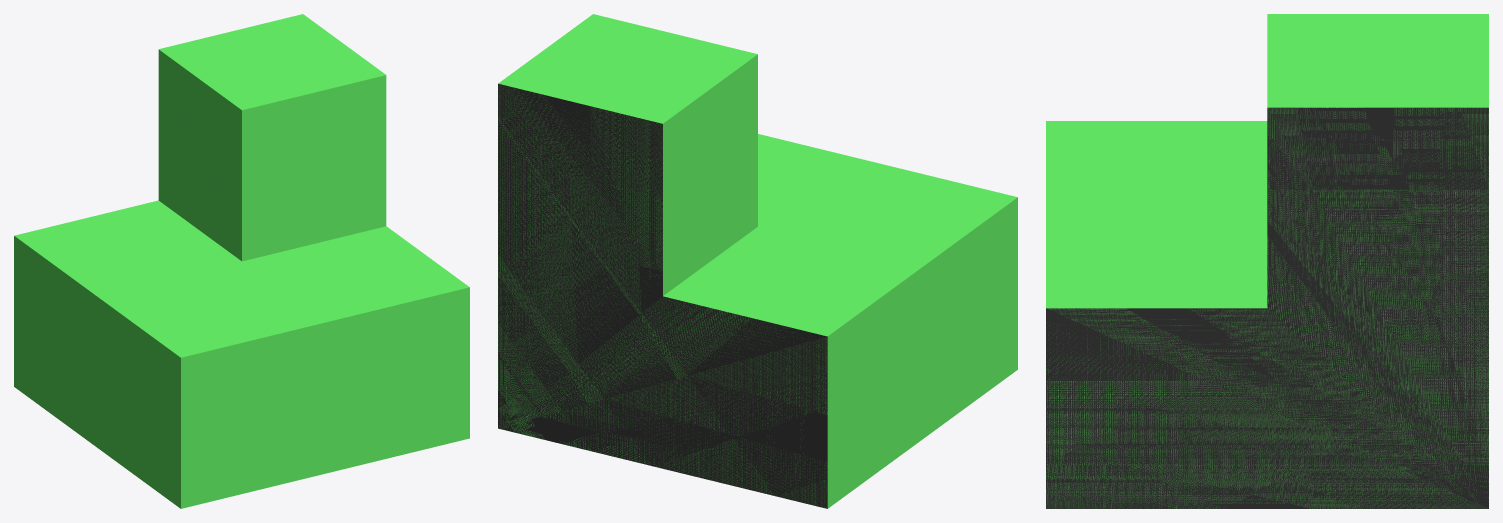
The model's file is dicezhu.dae.
The picture shows the model from 3 angles, left to right: view 1: azimuth 30°, elevation 25°; view 2: azimuth 150°, elevation 25°; view 3: azimuth 270°, elevation 25°; orthographic projection. The views are drawn at different scales.
Visible parts, largest first — view 1: dicezhu; view 2: dicezhu (×2); view 3: dicezhu (×2).
Part boxes in pixels (x1,y1,x2,y2): dicezhu: (14, 14, 469, 508); dicezhu (×2): (498, 14, 1017, 508); dicezhu (×2): (1046, 14, 1488, 508).
Bounding box in the file's own units: 39.37 × 39.37 × 39.37.
